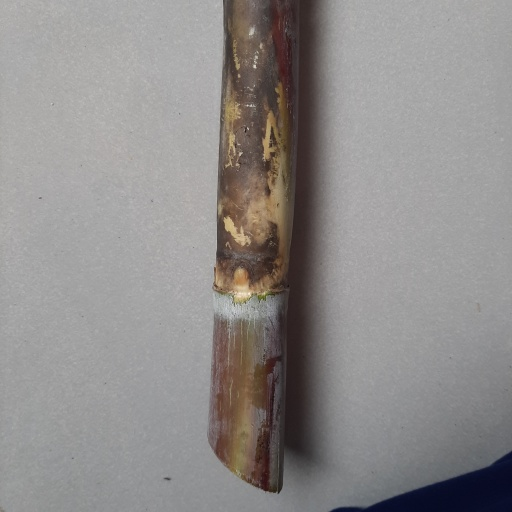Bud: (231, 264, 249, 287)
